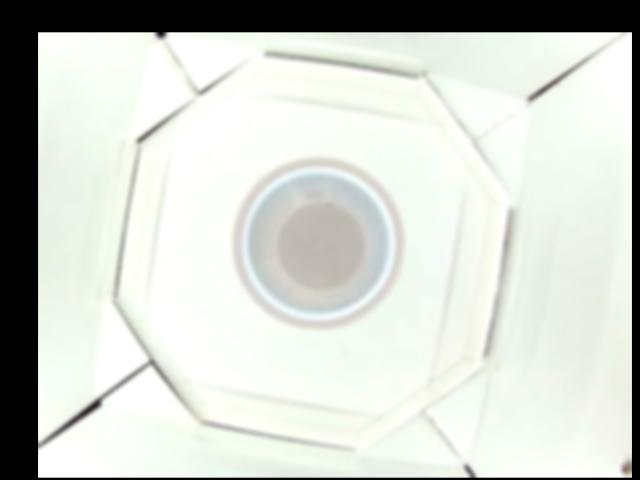Cup: (230, 155, 405, 330)
